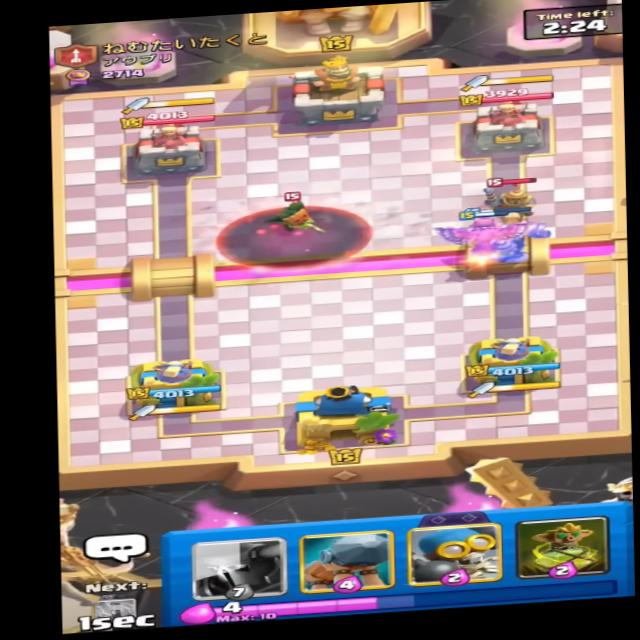dart-goblin: (265, 187, 332, 236)
prince: (483, 172, 544, 224)
